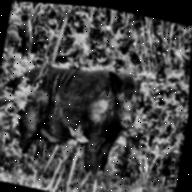boar: (0, 43, 146, 192)
